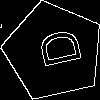D: (29, 26, 83, 72)
